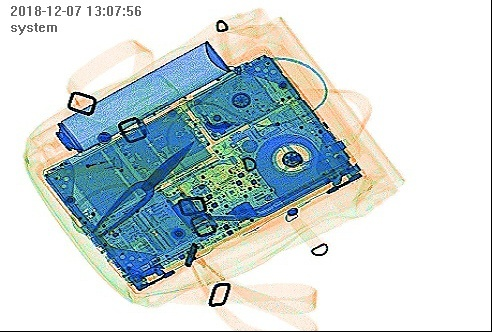lighter: (61, 154, 123, 174)
pressure: (29, 38, 229, 165)
scissors: (68, 137, 194, 253)
